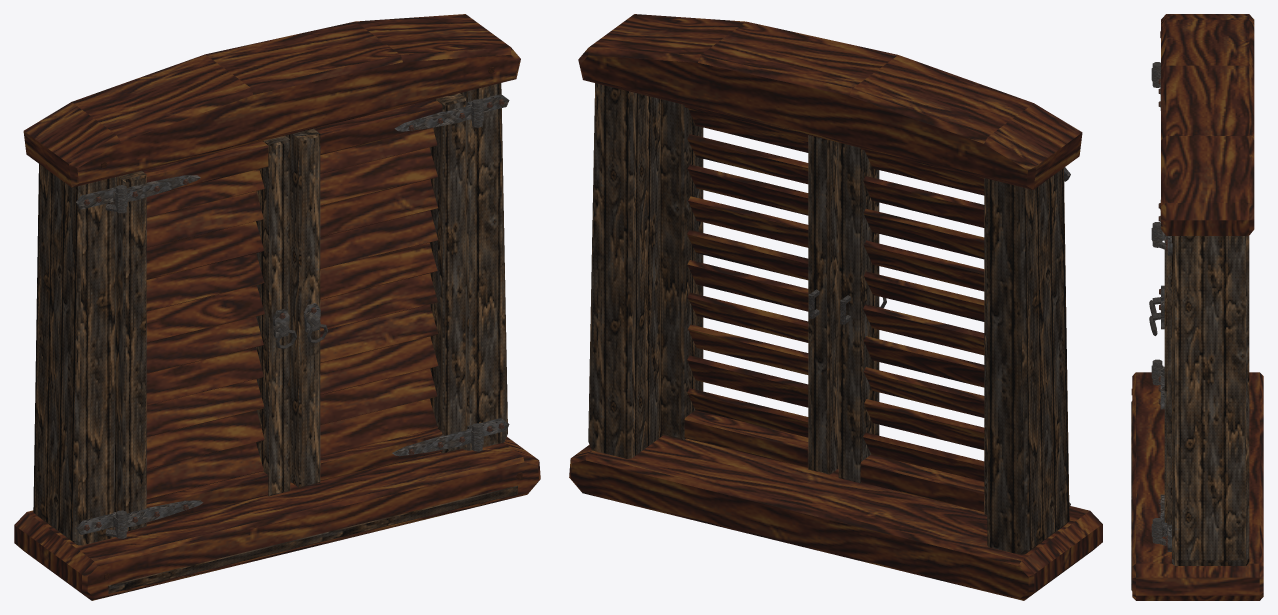
File: Janela-Rustica.glb
The picture shows the model from 3 angles, left to right: view 1: azimuth 30°, elevation 25°; view 2: azimuth 150°, elevation 25°; view 3: azimuth 270°, elevation 25°; orthographic projection. The views are drawn at different scales.
Parts seen in each view (by area): view 1: Batente, Folha direita, Folha esquerda, Ferragens da folha direita, Ferragens da folha esquerda, Ferragens do batente; view 2: Batente, Folha direita, Folha esquerda; view 3: Batente, Folha direita, Ferragens da folha direita, Ferragens do batente, Ferragens da folha esquerda.
Boxes of the visible parts, left/top/right/bottom form: Batente: left=14, top=14, right=540, bottom=600; Folha direita: left=285, top=93, right=466, bottom=487; Folha esquerda: left=114, top=135, right=290, bottom=531; Ferragens da folha direita: left=304, top=104, right=483, bottom=456; Ferragens da folha esquerda: left=113, top=175, right=296, bottom=533; Ferragens do batente: left=76, top=94, right=509, bottom=538; Batente: left=569, top=14, right=1102, bottom=600; Folha direita: left=660, top=99, right=838, bottom=474; Folha esquerda: left=838, top=142, right=987, bottom=514; Batente: left=1131, top=14, right=1263, bottom=600; Folha direita: left=1164, top=236, right=1171, bottom=537; Ferragens da folha direita: left=1149, top=200, right=1167, bottom=538; Ferragens do batente: left=1152, top=62, right=1172, bottom=551; Ferragens da folha esquerda: left=1149, top=68, right=1164, bottom=409.
Size of the model in its own units: 1.28 by 1.23 by 0.35.
4 materials, 4 textured.
